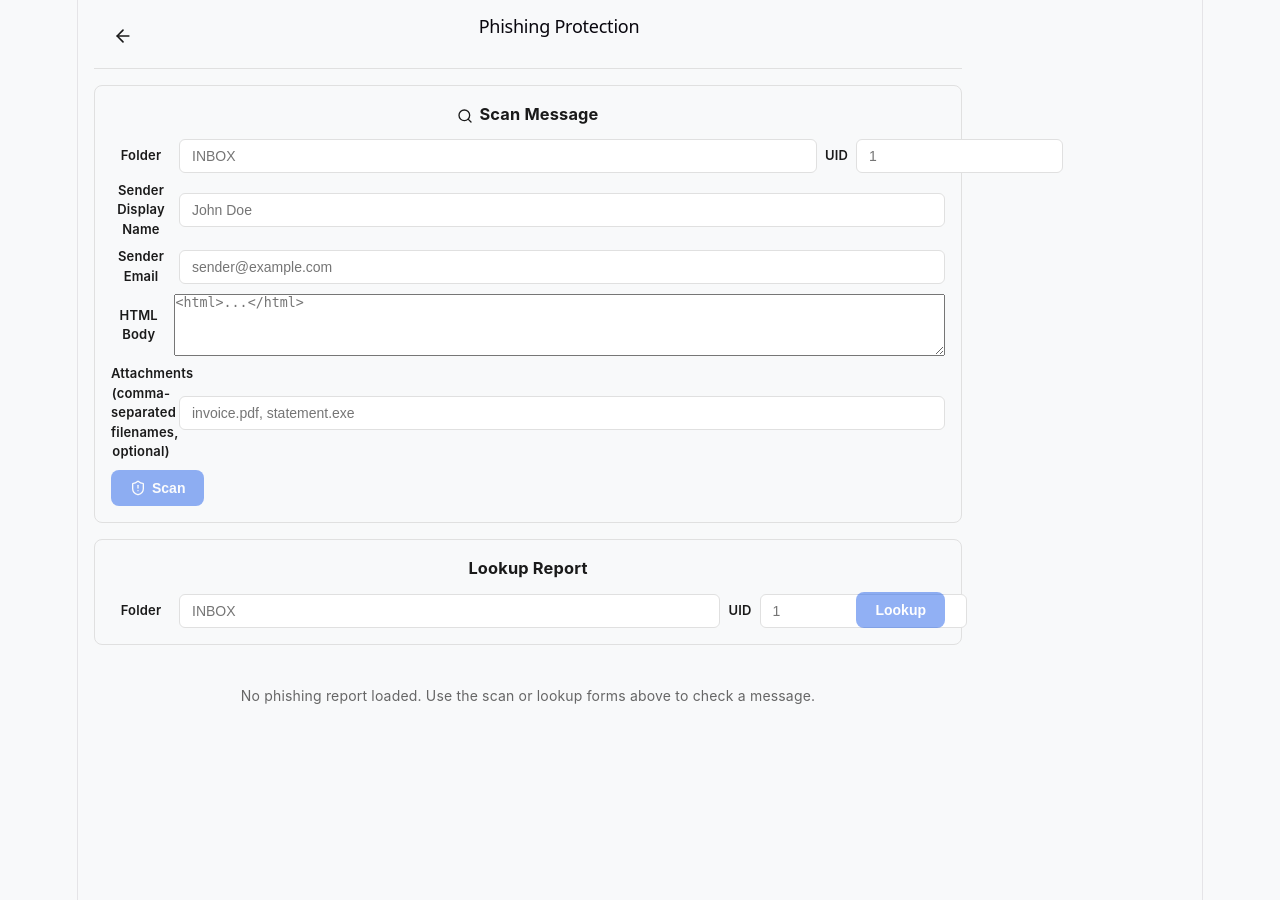
Test case: PhishingManager › shows action buttons Safe, Dismiss, and Report
In the field with placeholder "INBOX" below "Scan Message": (498, 156) [179,139,817,173], type "Sent"
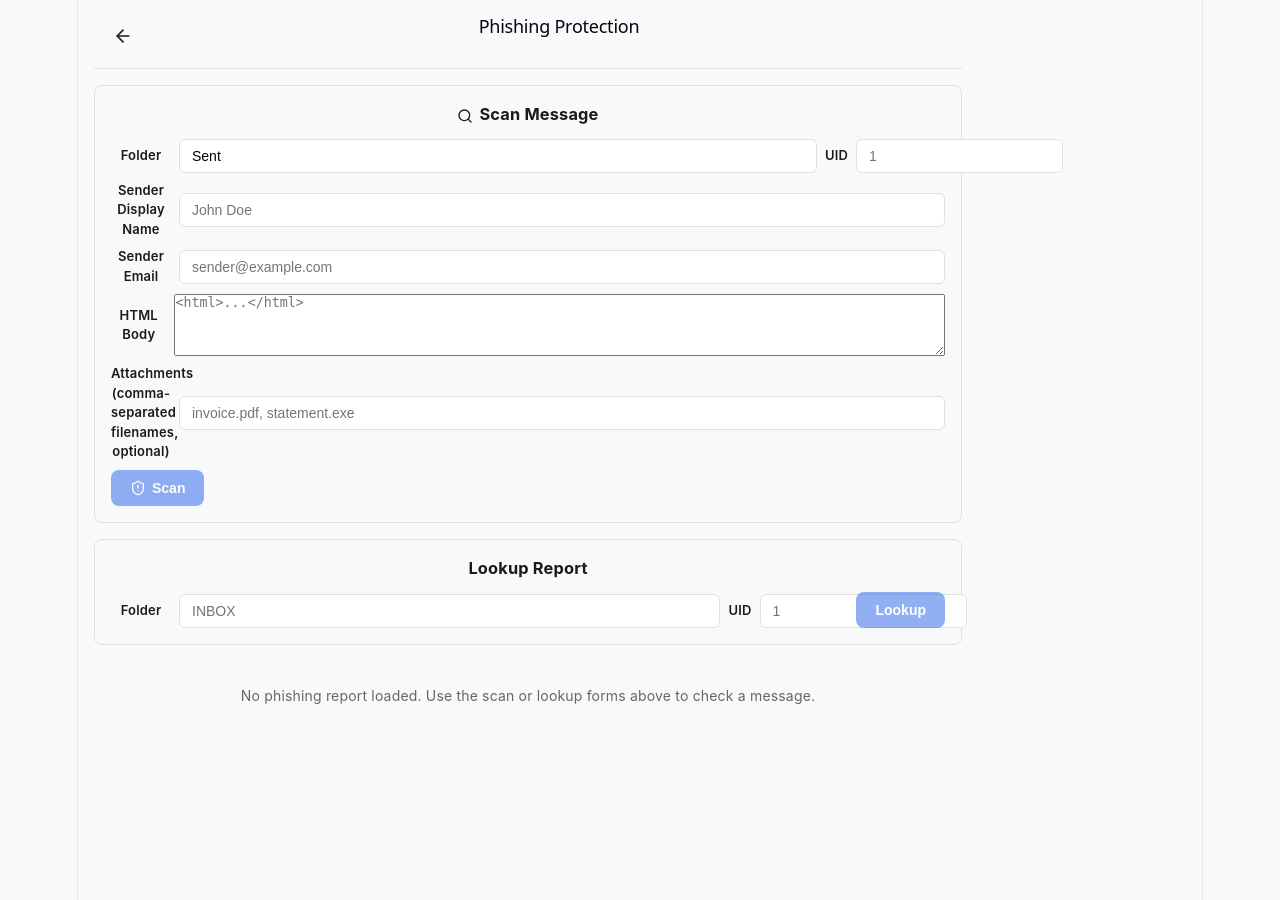
In the number field with placeholder "1": (960, 156) [856,139,1063,173], type "5"
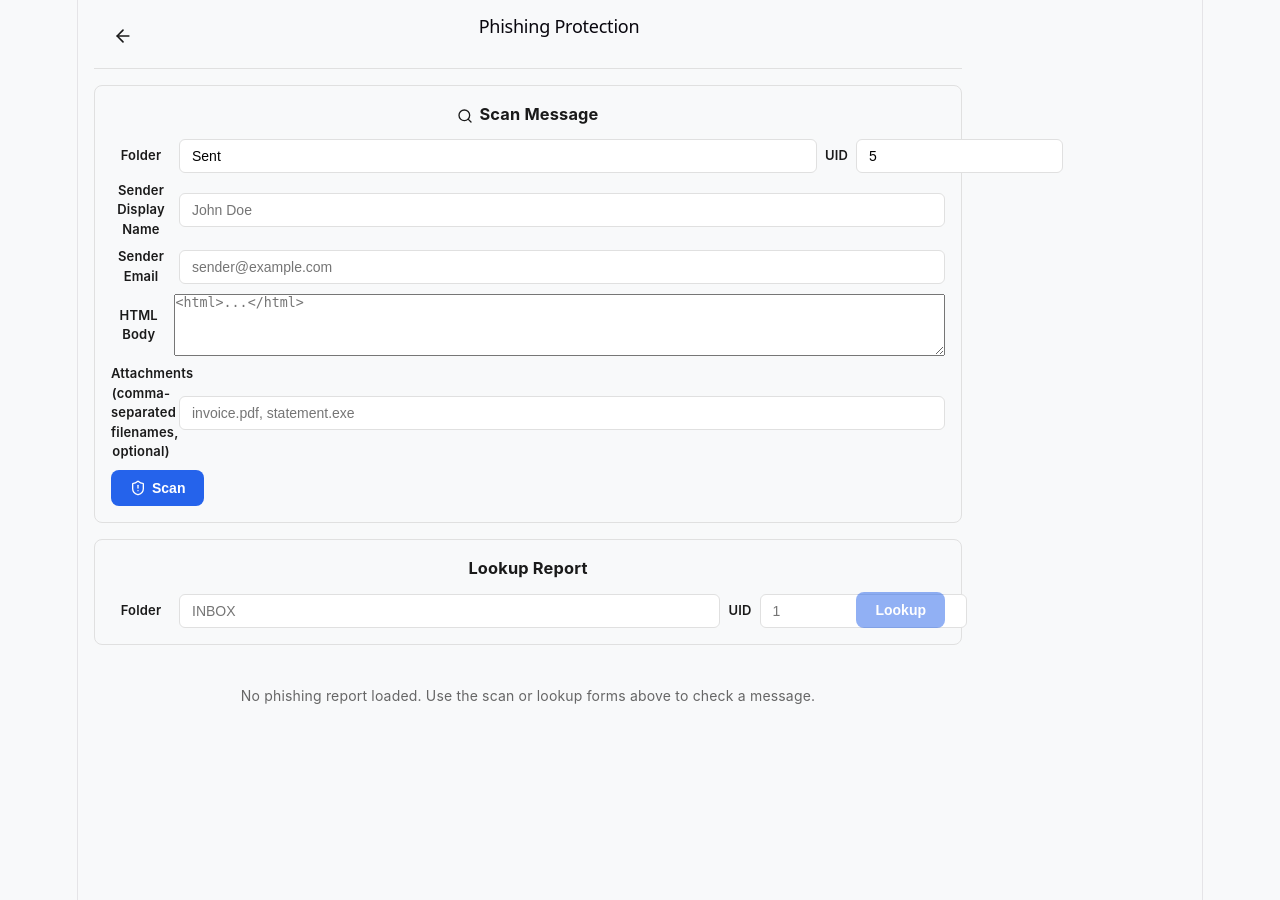
In the field with placeholder "John Doe": (562, 210) [179,193,945,227], type "Test"
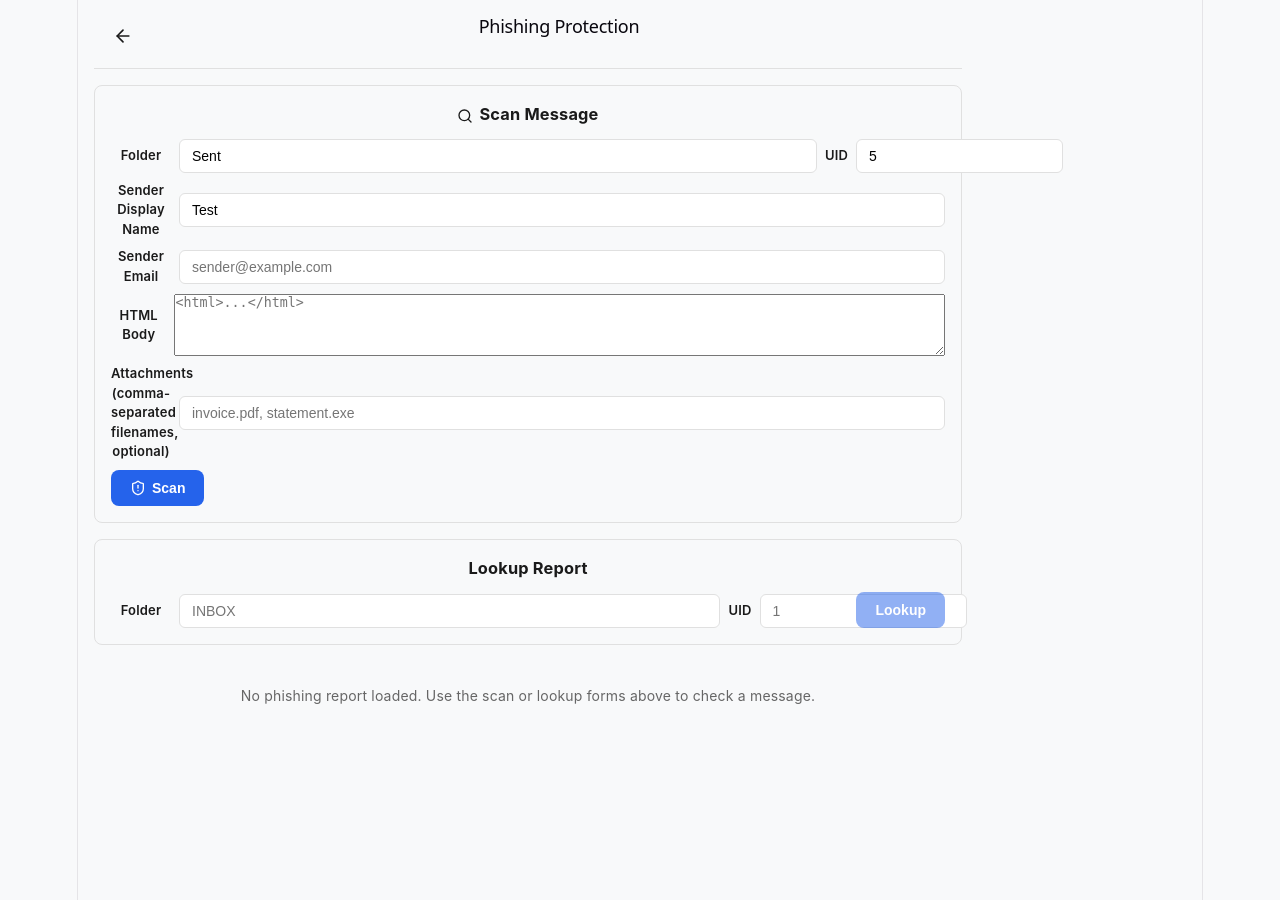
In the field with placeholder "sender@example.com": (562, 267) [179,250,945,284], type "test@test.com"
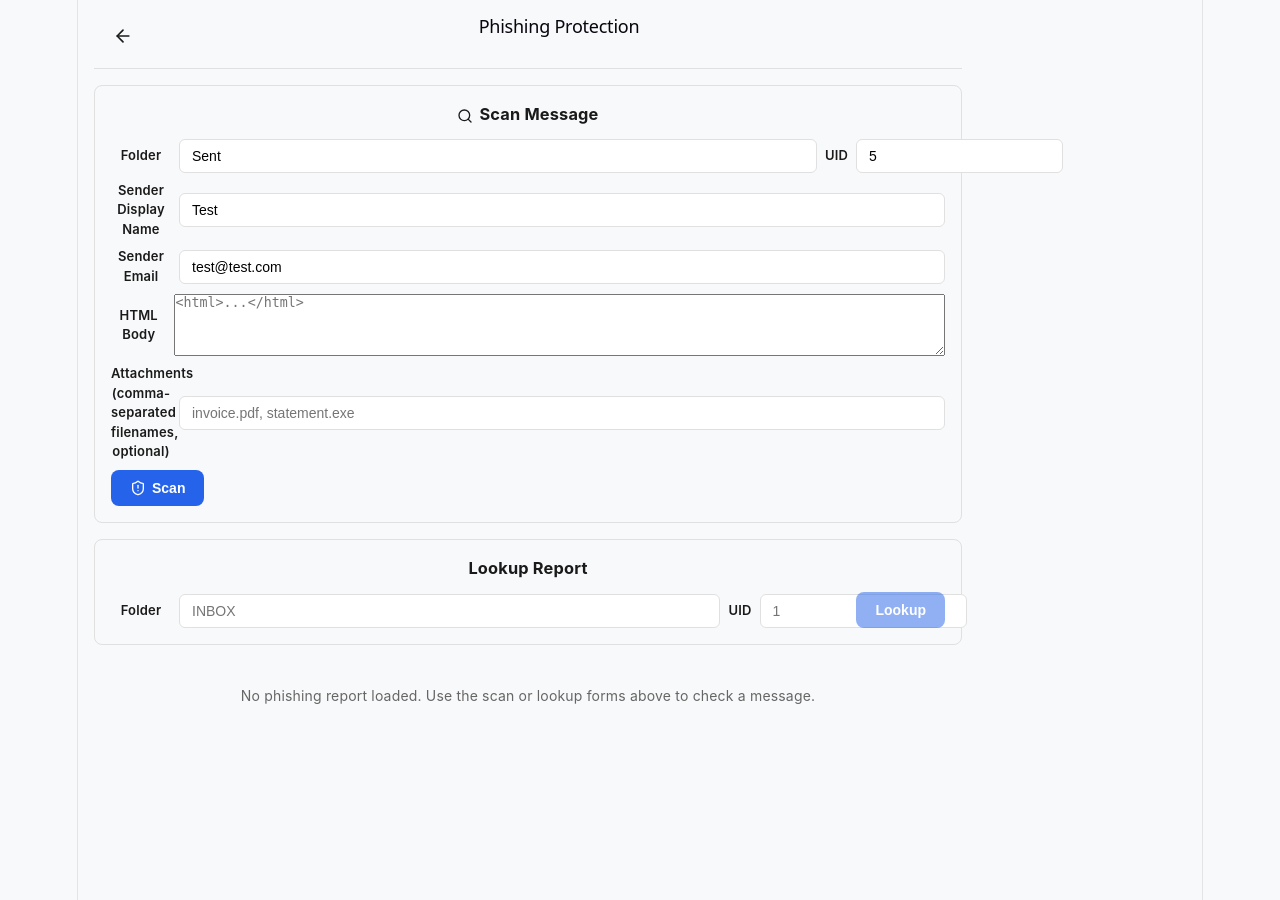
In the text box with placeholder "<html>...</html>": (560, 325) [174,294,945,356], type "<html>x</html>"
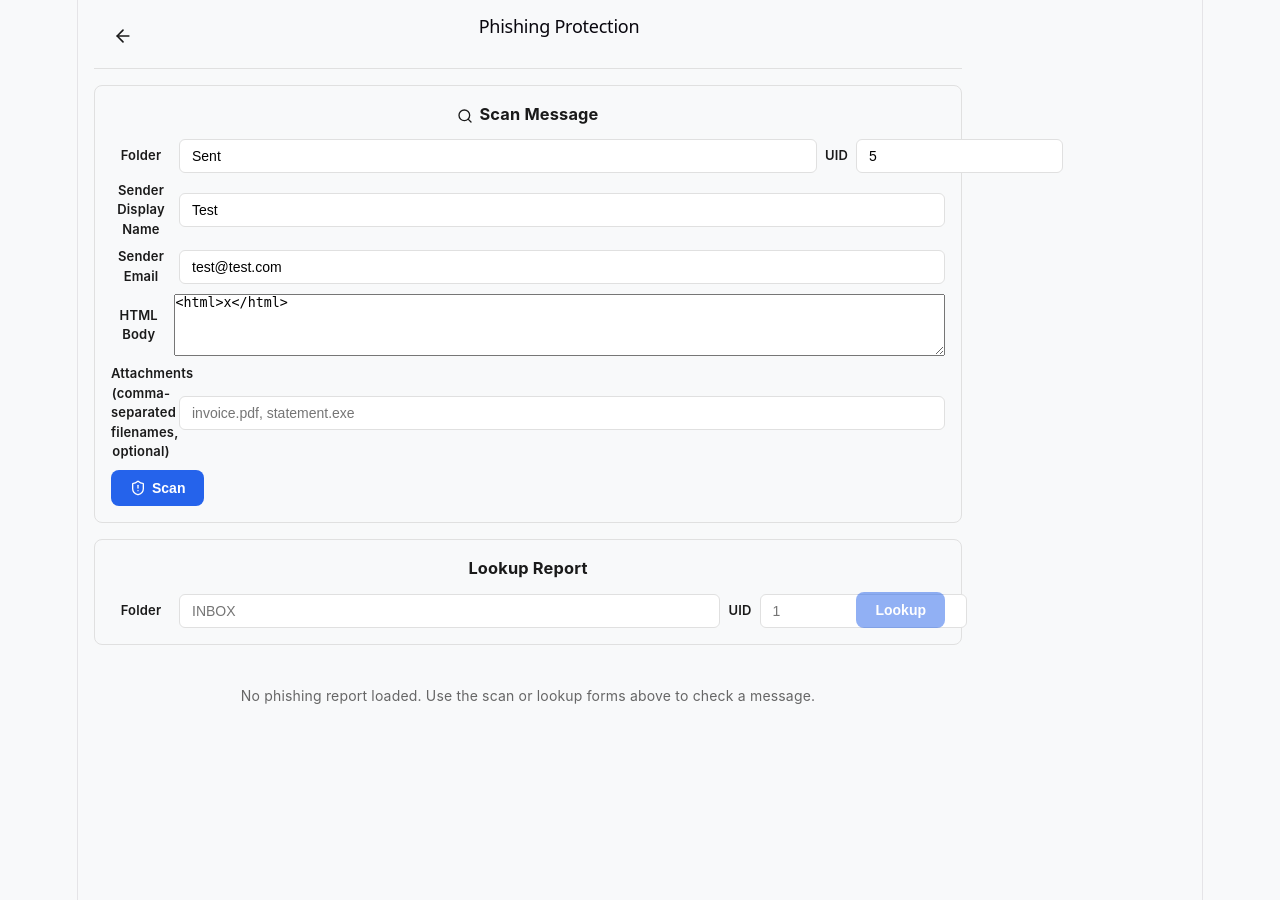
Click the button "Scan": click(158, 488) [111,470,204,506]
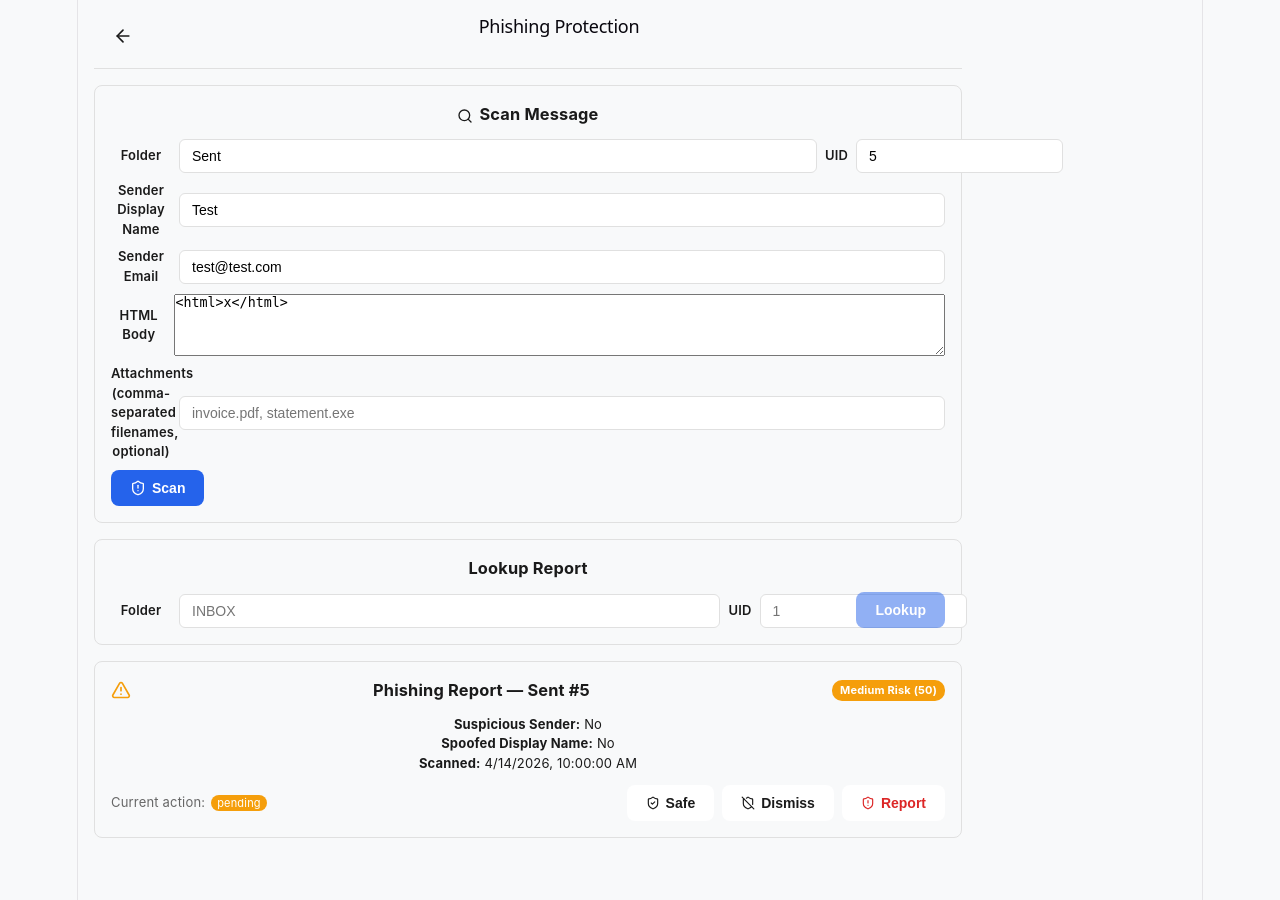
Now the button "Safe" is shown, box [627,785,714,821]
Now the button "Dismiss" is shown, box [722,785,834,821]
Now the button "Report" is shown, box [842,785,945,821]
